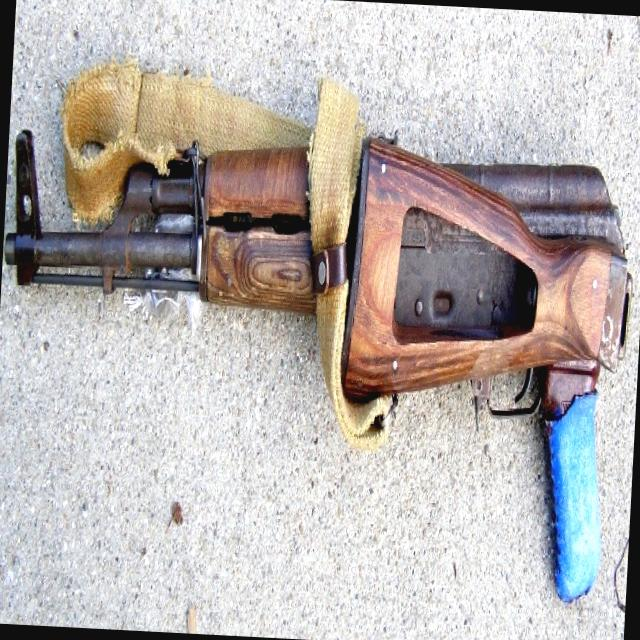ak: (0, 84, 640, 622)
